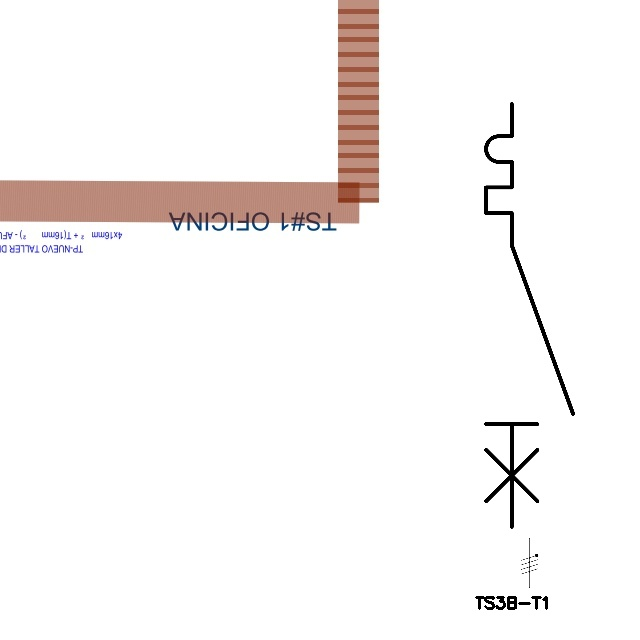interruptor_termomagnetico: (475, 93, 584, 537)
